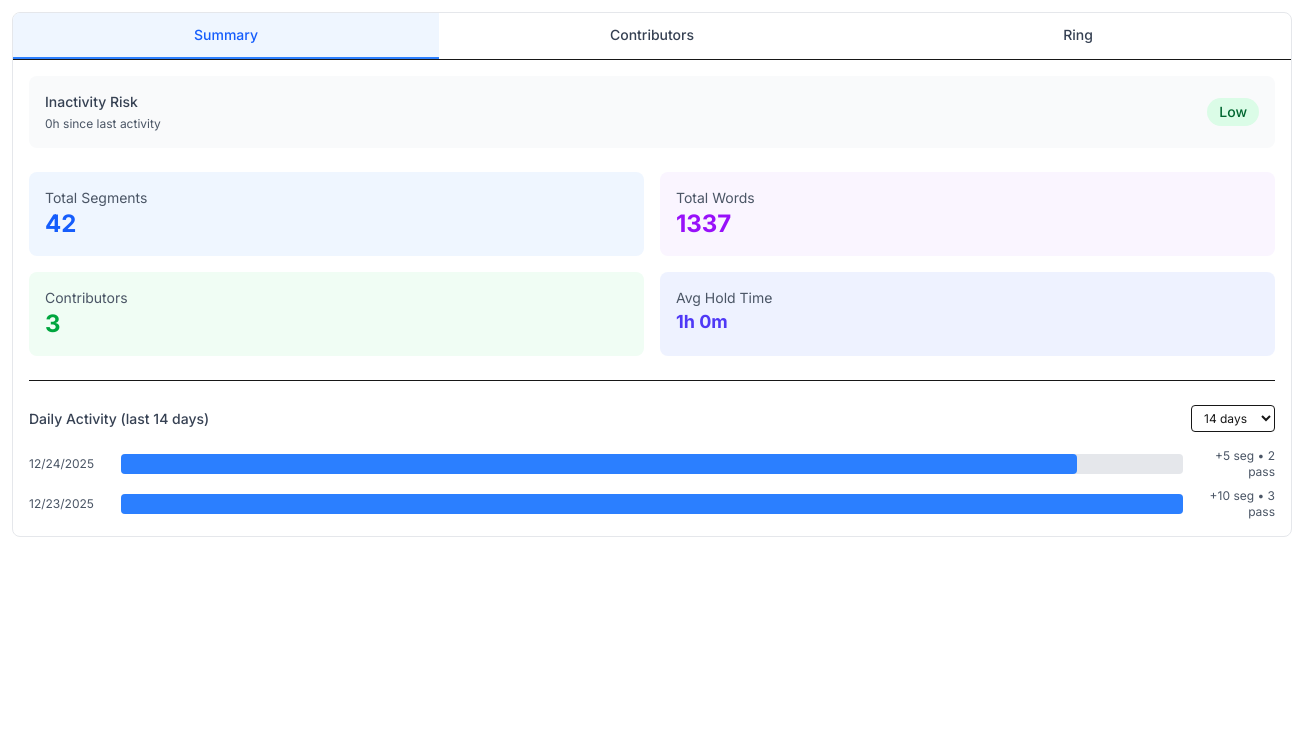
AnalyticsPanel › switches to Ring tab and displays ring holder and recommendation
Click Ring tab
Step 1. Click the tab "Ring" → click(1078, 36), box [865,13,1291,59]
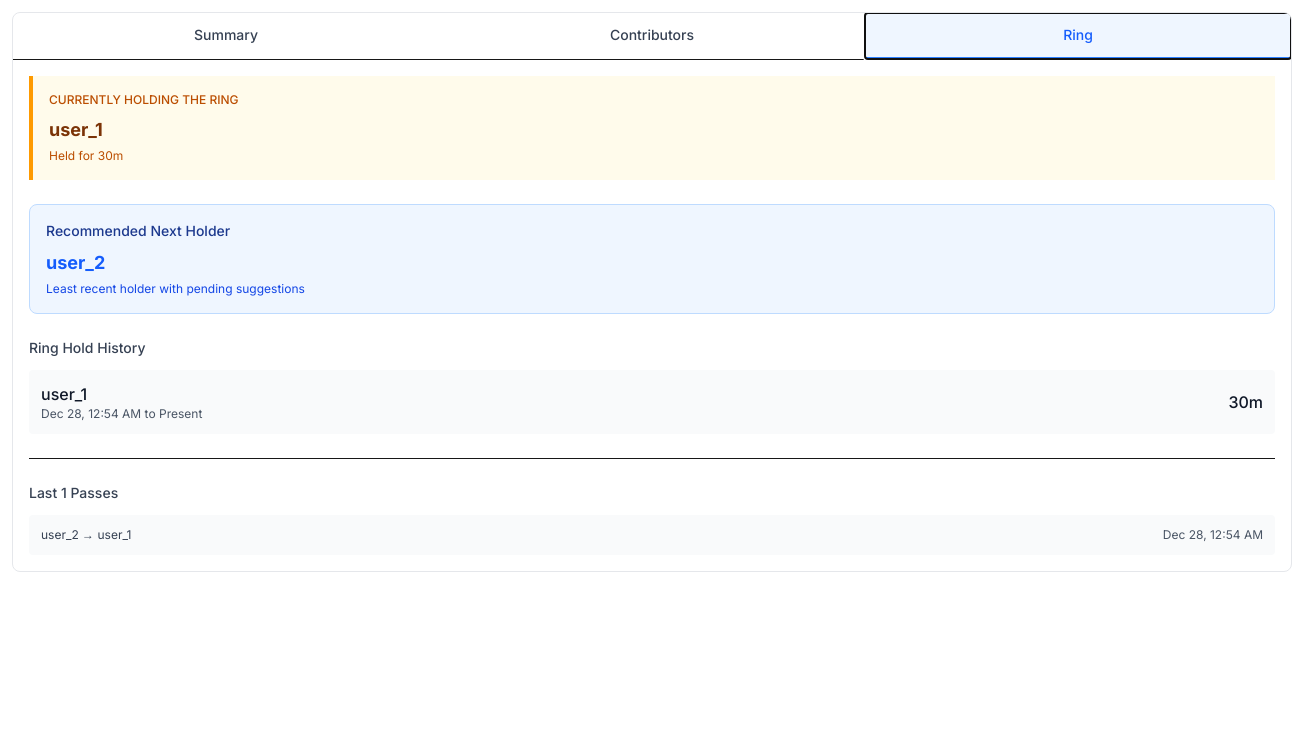
Expected: the text "Currently Holding the Ring" is shown, [49,92,238,107]
Expected: the text "Recommended Next Holder" is shown, [46,222,230,239]
Expected: the text "user_2" is shown, [46,252,105,273]
